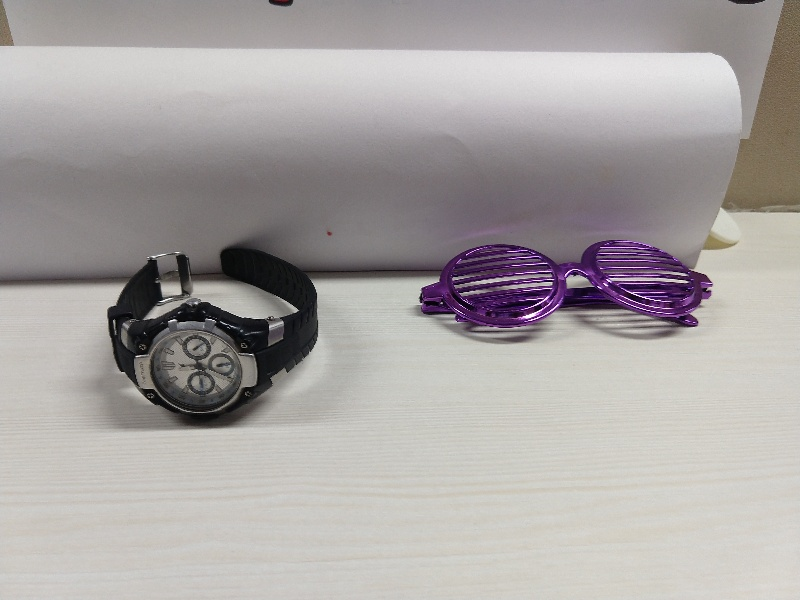shades: (415, 237, 737, 333)
watch: (103, 237, 326, 421)
